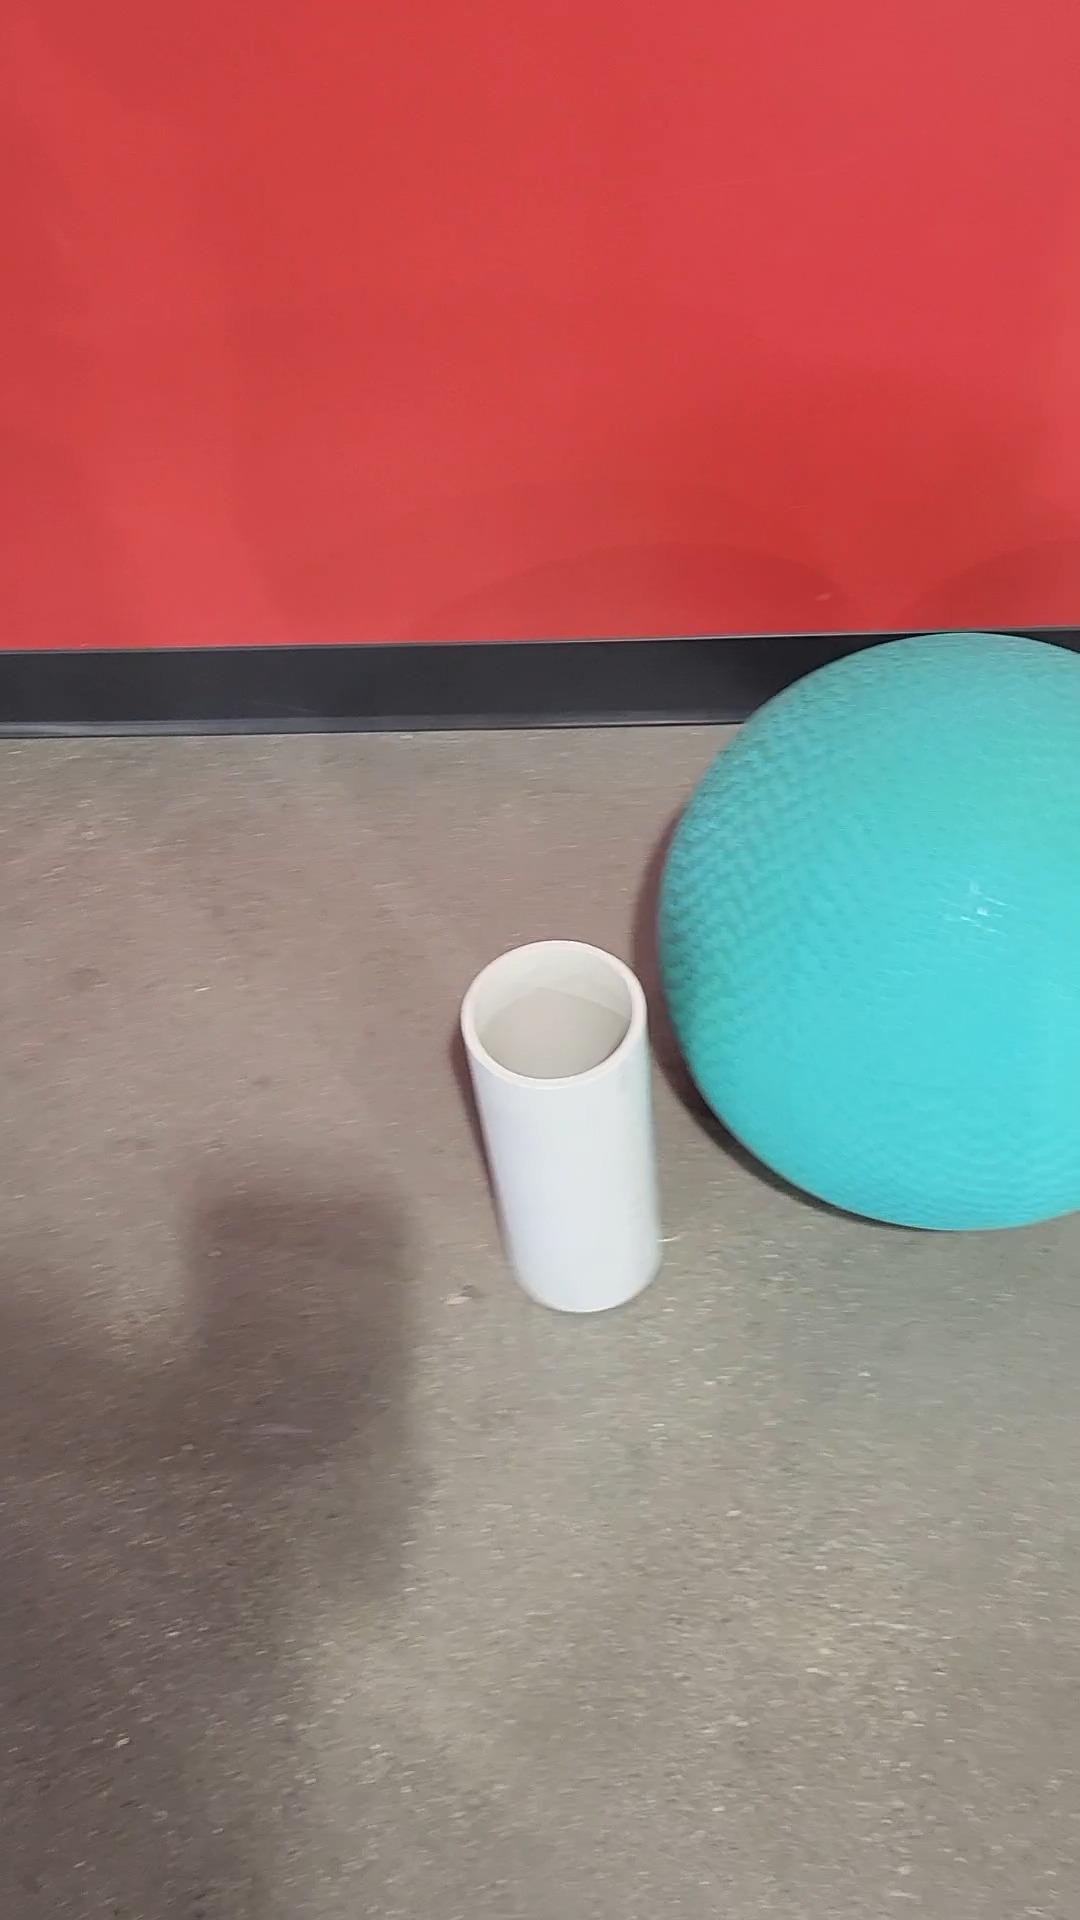algae: (659, 630, 1079, 1234)
coral: (462, 939, 665, 1315)
